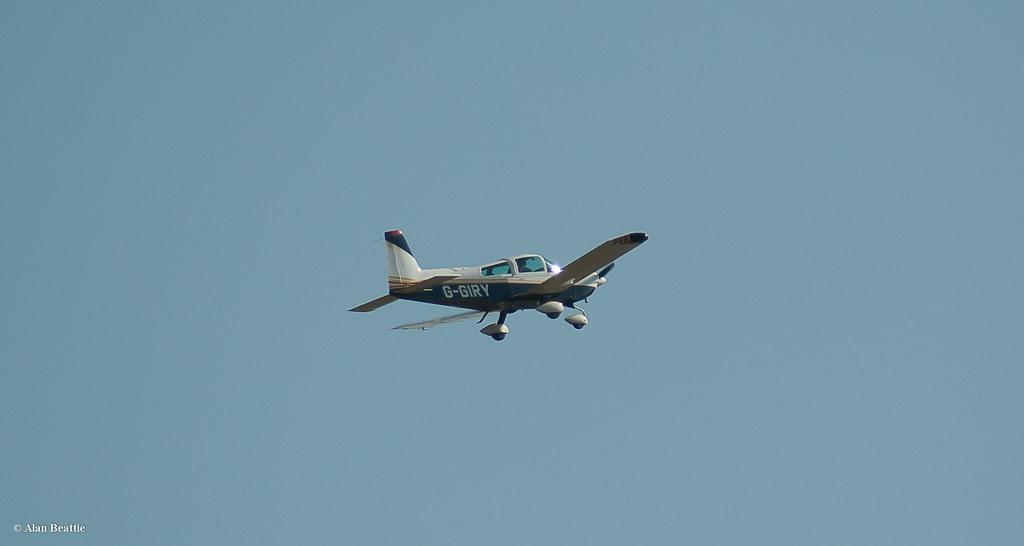plane: (347, 228, 649, 342)
